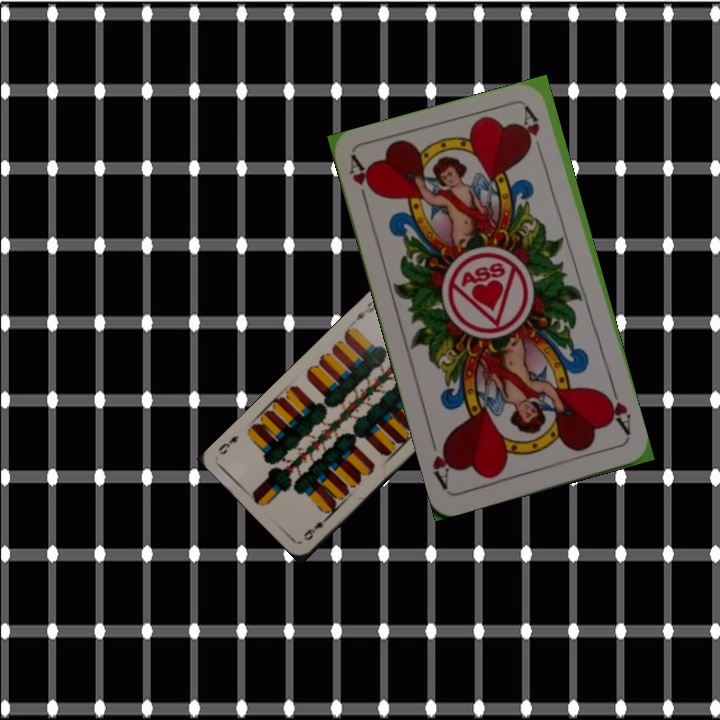E9: (299, 512, 331, 543), (352, 297, 379, 323)
HA: (599, 382, 634, 440), (345, 153, 378, 212)
